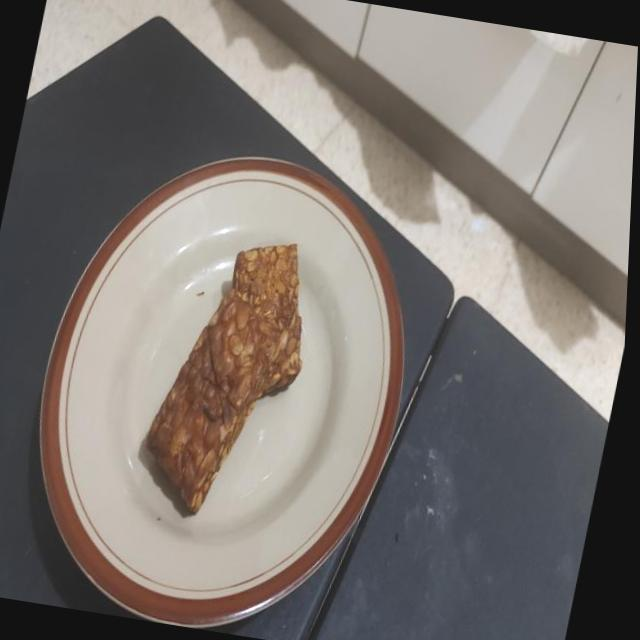tempe_goreng: (147, 288, 283, 514), (232, 243, 302, 397)
